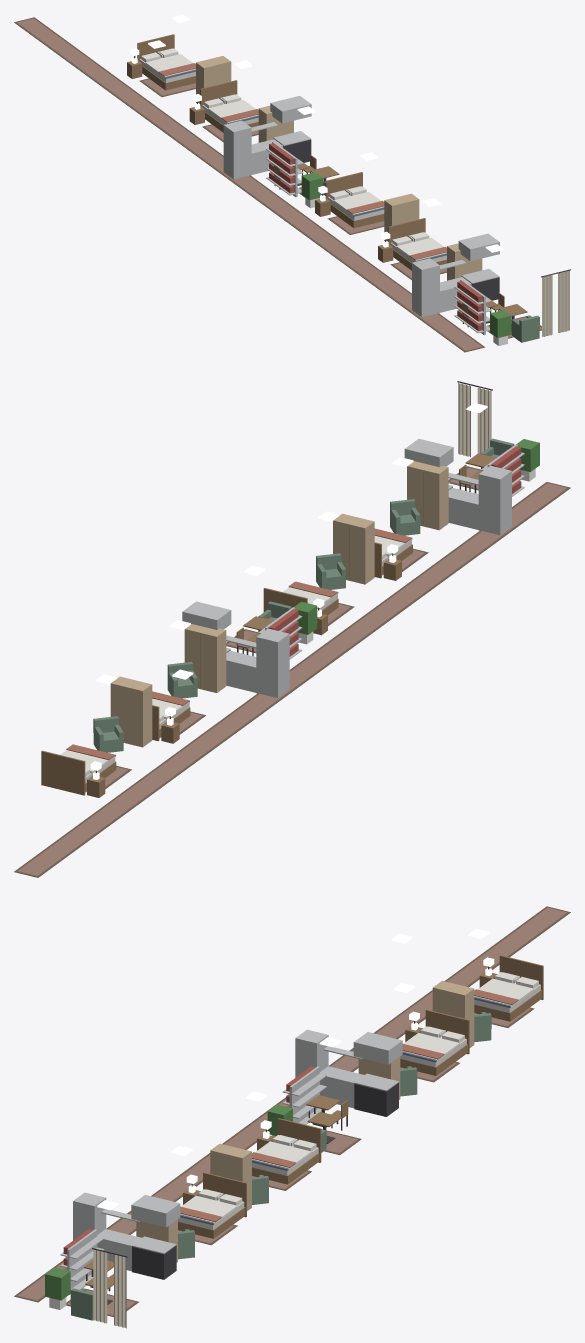
File: fine-s3.glb
The picture shows the model from 3 angles, top to bottom: view 1: azimuth 30°, elevation 25°; view 2: azimuth 150°, elevation 25°; view 3: azimuth 330°, elevation 25°; orthographic projection. The views are drawn at different scales.
Parts seen in each view (by area): view 1: soft-s3, fridge.006, range.007, range.006, fridge.007, bed-frame.008, shelving.007, shelving.008, bed-frame.006, bed-frame.007, dresser.008, bed-frame.009 (+8 smaller); view 2: soft-s3, dresser.006, dresser.008, dresser.007, dresser.009, fridge.007, fridge.006, bed-frame.006, kitchen-counter.006, kitchen-counter.007, range.006, range.007 (+9 smaller); view 3: soft-s3, range.006, range.007, bed-frame.006, bed-frame.008, bed-frame.007, bed-frame.009, dresser.006, shelving.007, shelving.008, dresser.008, kitchen-counter.006 (+7 smaller).
Boxes of the visible parts, x1,y1,x2,y2 form: soft-s3: (14, 17, 570, 352); fridge.006: (223, 120, 251, 179); range.007: (458, 233, 499, 300); range.006: (270, 96, 311, 162); fridge.007: (412, 258, 439, 316); bed-frame.008: (325, 172, 384, 228); shelving.007: (266, 141, 303, 197); shelving.008: (454, 279, 491, 334); bed-frame.006: (137, 34, 195, 90); bed-frame.007: (200, 80, 258, 132); dresser.008: (384, 193, 419, 241); bed-frame.009: (388, 218, 446, 270); soft-s3: (14, 381, 570, 877); dresser.006: (110, 676, 152, 747); dresser.008: (333, 513, 374, 584); dresser.007: (184, 624, 226, 692); dresser.009: (407, 461, 448, 530); fridge.007: (478, 465, 511, 535); fridge.006: (256, 628, 289, 697); bed-frame.006: (41, 750, 116, 795); kitchen-counter.006: (226, 635, 256, 692); kitchen-counter.007: (448, 472, 478, 529); range.006: (182, 601, 231, 652); range.007: (404, 438, 453, 489); soft-s3: (14, 906, 570, 1328); range.006: (353, 1032, 402, 1116); range.007: (131, 1194, 180, 1279); bed-frame.006: (474, 955, 543, 1021); bed-frame.008: (252, 1118, 321, 1184); bed-frame.007: (400, 1009, 469, 1075); bed-frame.009: (178, 1172, 246, 1238); dresser.006: (432, 980, 474, 1047); shelving.007: (282, 1066, 326, 1124); shelving.008: (60, 1229, 104, 1294); dresser.008: (210, 1143, 251, 1210); kitchen-counter.006: (320, 1046, 364, 1108).
Bounding box in the file's own units: 4.43 × 3.07 × 34.66.
